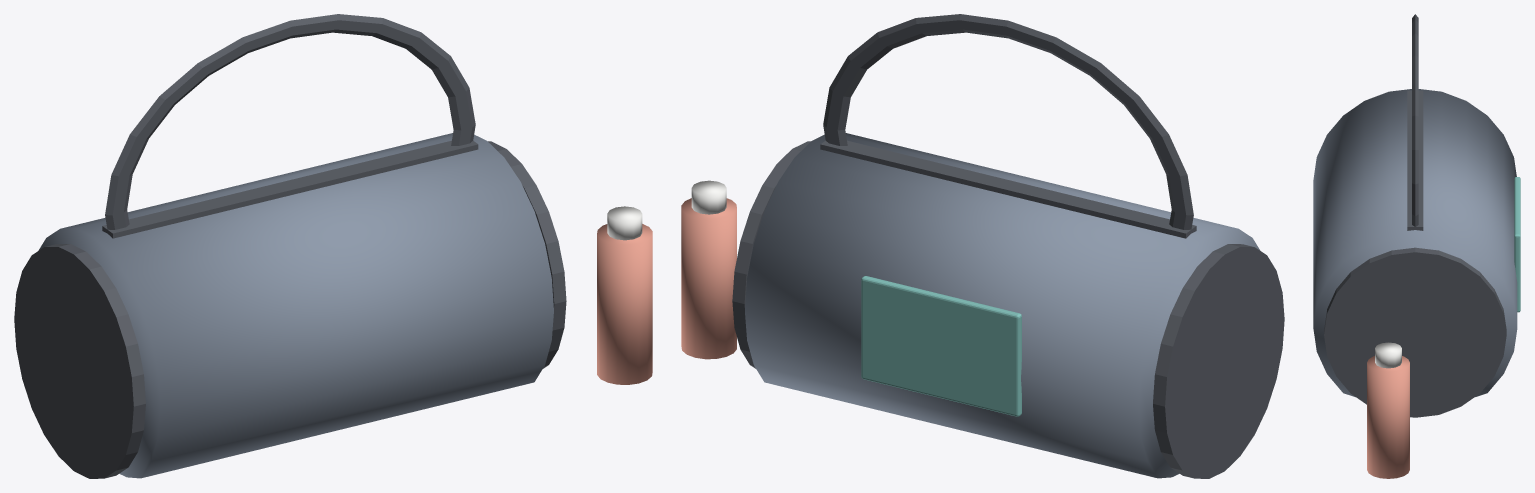
Rendered from gym_bag.glb.
3 renders of one model, left to right at view 1: azimuth 30°, elevation 25°; view 2: azimuth 150°, elevation 25°; view 3: azimuth 270°, elevation 25°, orthographic. The views are drawn at different scales.
Visible parts, largest first — view 1: gym_bag; view 2: gym_bag; view 3: gym_bag.
Part boxes in pixels (bbox=[...]): gym_bag: bbox=[14, 14, 652, 478]; gym_bag: bbox=[681, 14, 1284, 478]; gym_bag: bbox=[1313, 14, 1520, 478].
Bounding box in the file's own units: 0.915 × 0.654 × 0.386.
